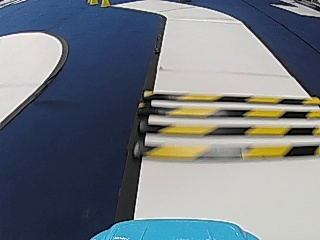bump: (158, 92, 299, 159)
